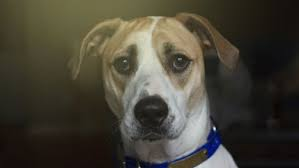dog: (106, 44, 196, 140)
